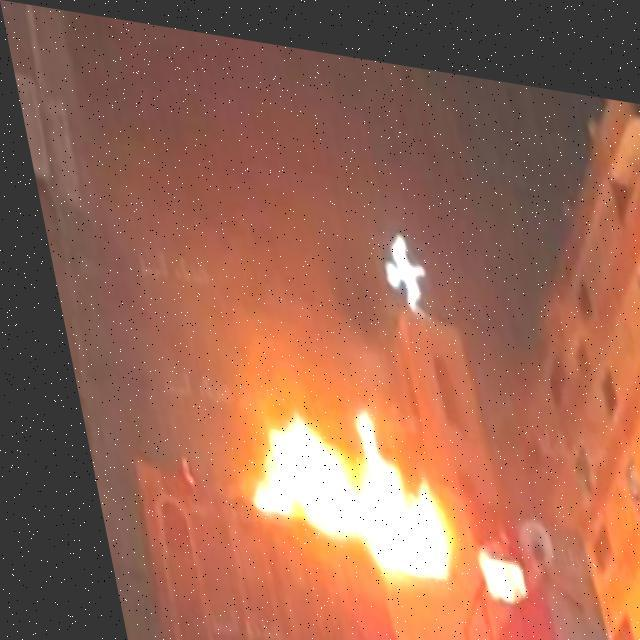Fire: (220, 388, 438, 570)
